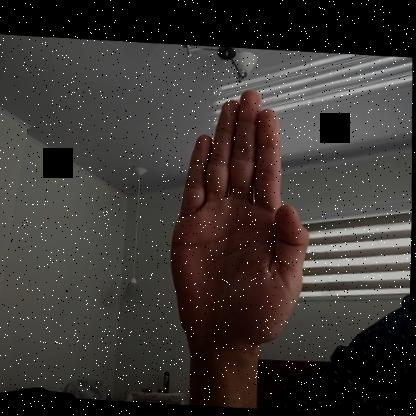B: (166, 79, 316, 347)
